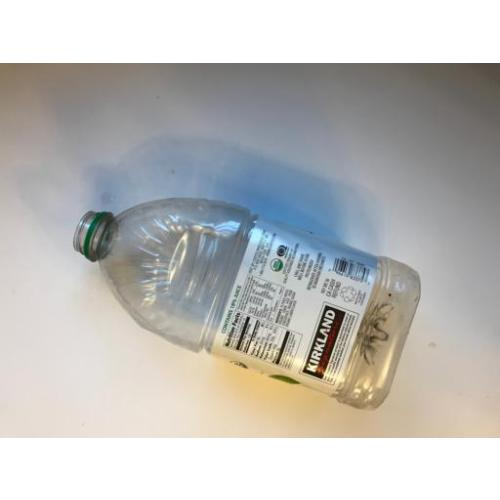plastic: (72, 197, 422, 408)
